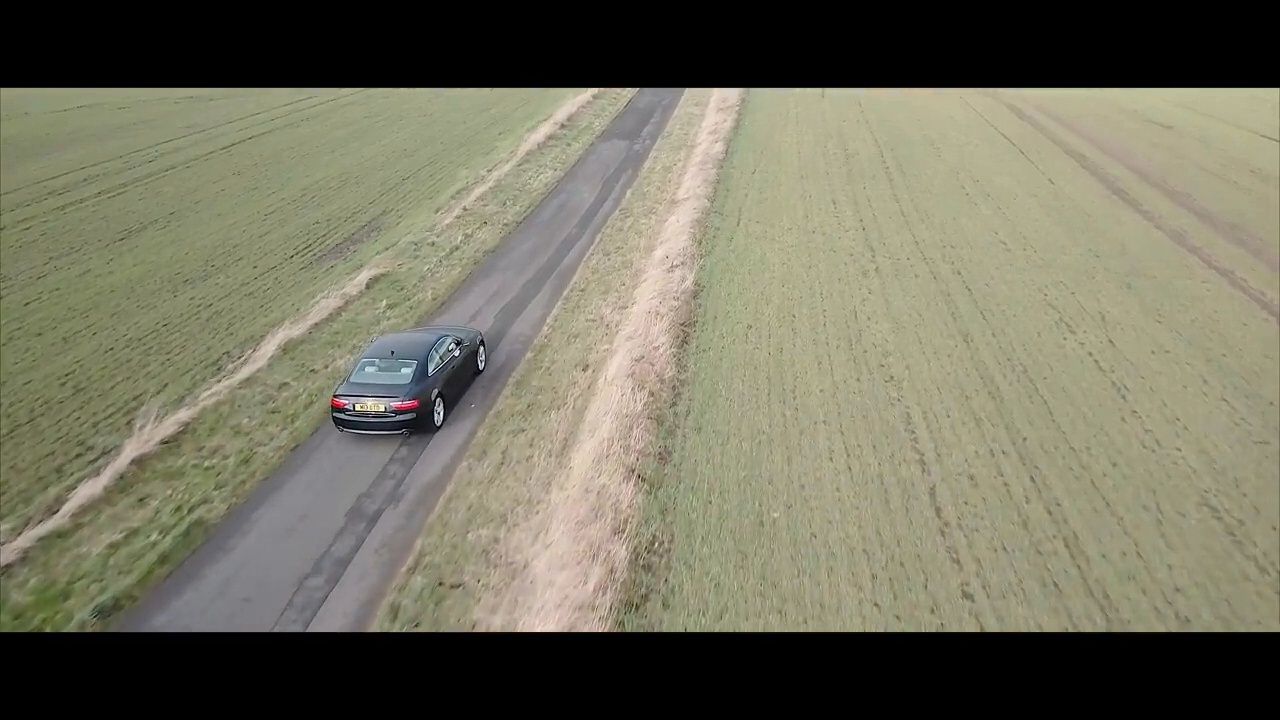araba: (330, 322, 494, 441)
